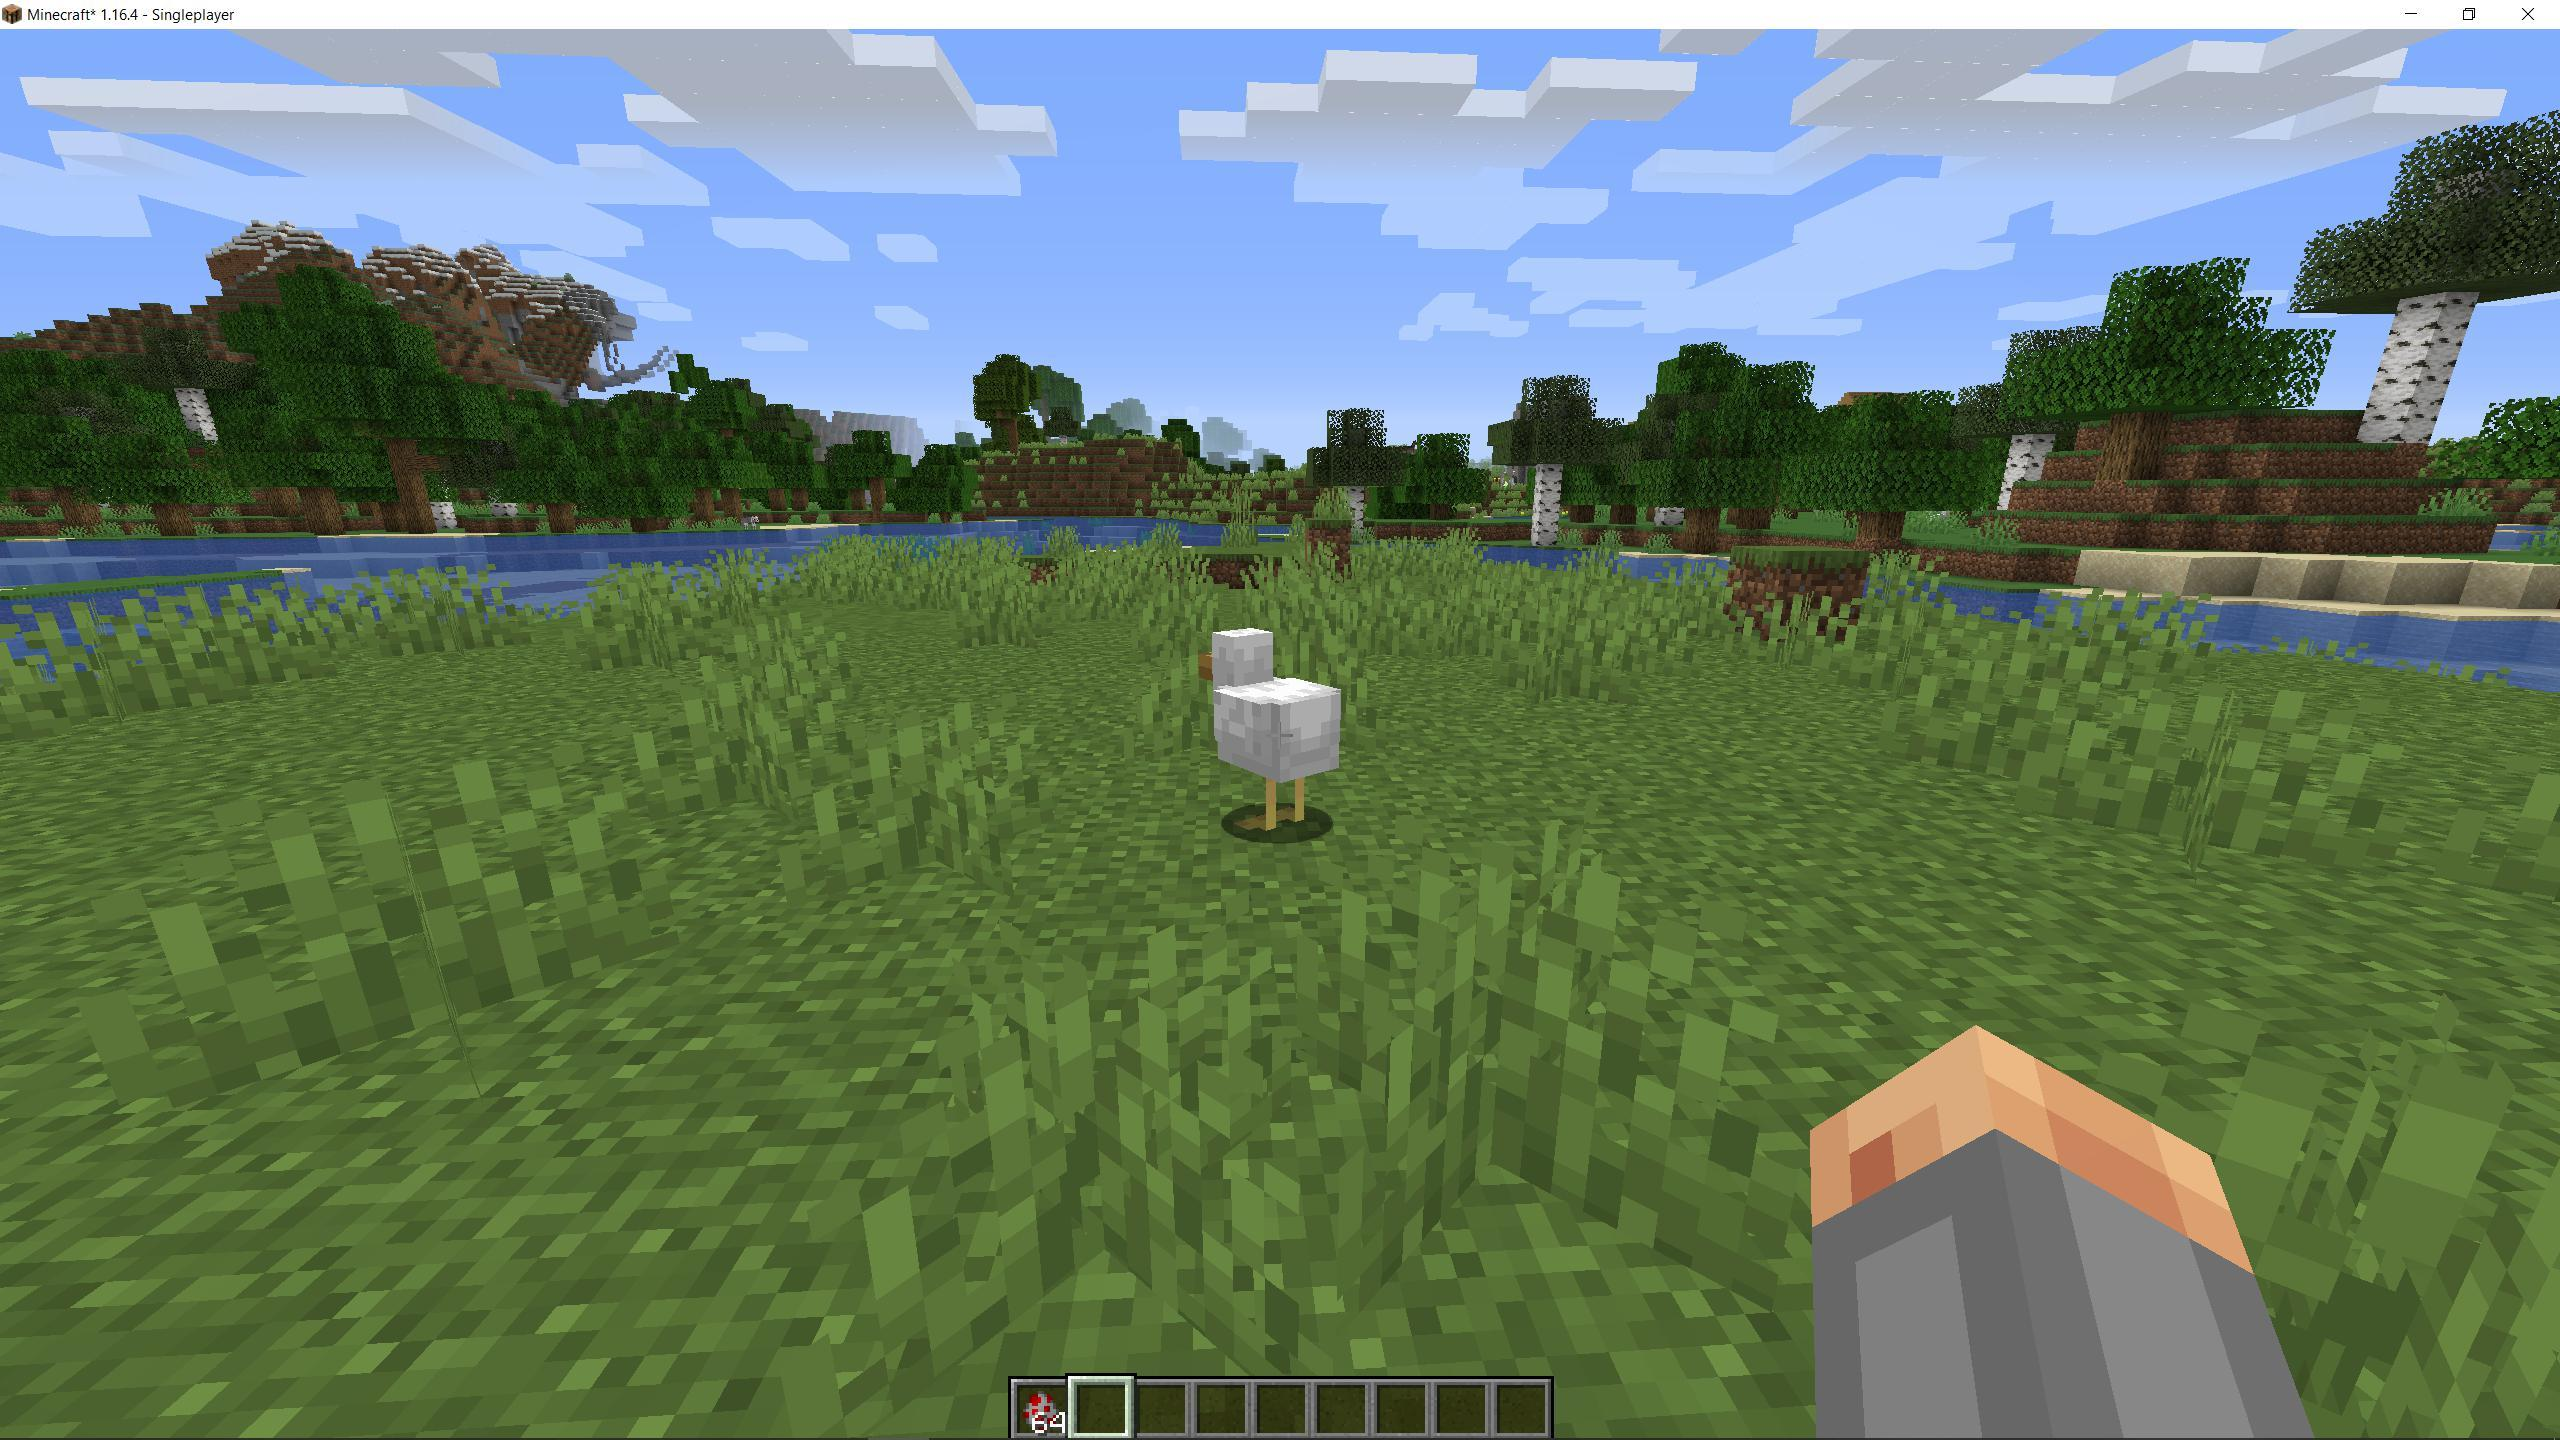chicken: (1185, 617, 1354, 853)
